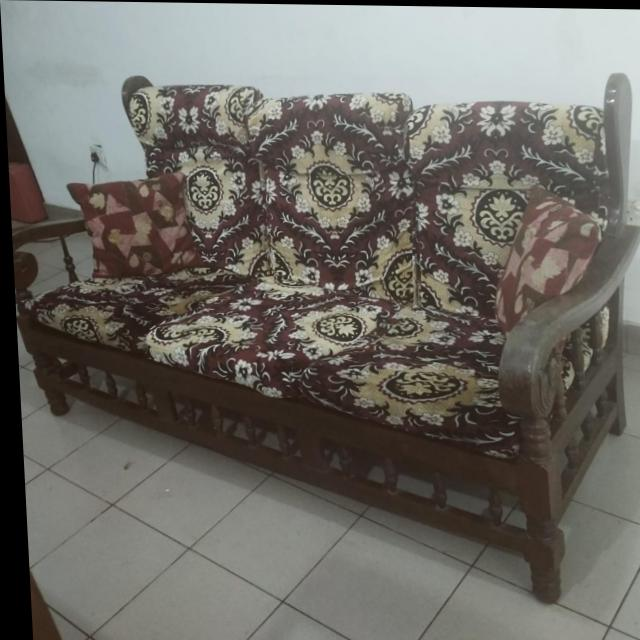Sofa: (3, 78, 640, 588)
